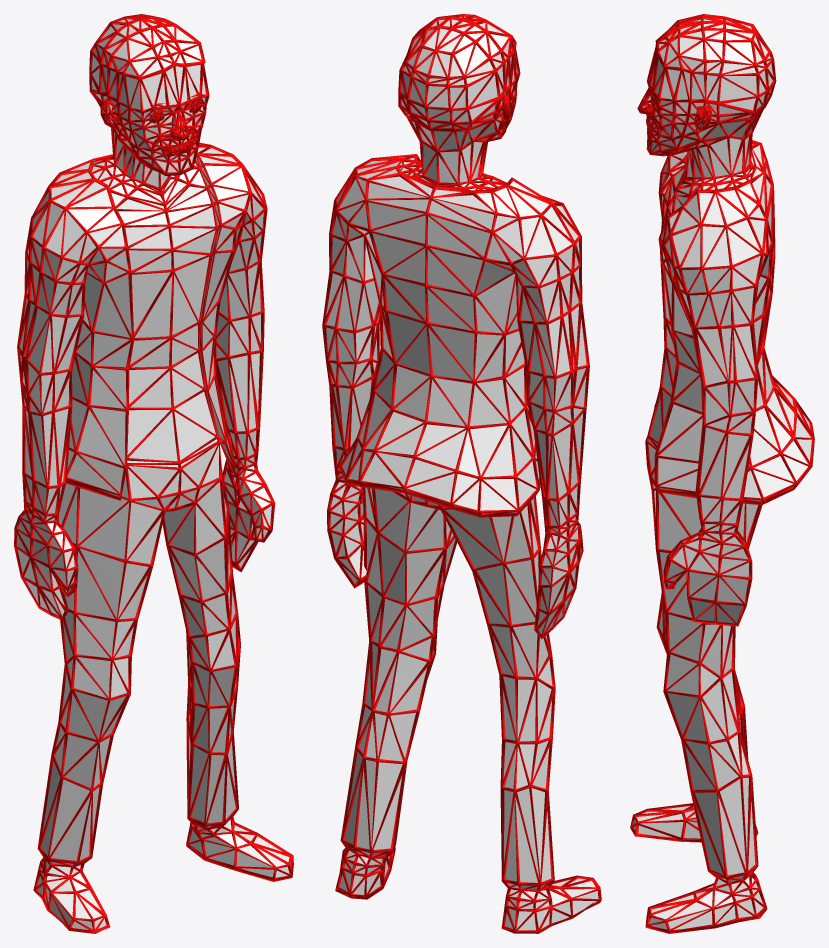
File: elegantIdle_000021.obj
3 views of the same model, side by side, from view 1: azimuth 30°, elevation 25°; view 2: azimuth 150°, elevation 25°; view 3: azimuth 270°, elevation 25° (orthographic). The views are drawn at different scales.
Visible parts, largest first — view 1: BaseHuman_Cylinder.002; view 2: BaseHuman_Cylinder.002; view 3: BaseHuman_Cylinder.002.
Part boxes in pixels (left/top/right/bottom): BaseHuman_Cylinder.002: left=14, top=14, right=293, bottom=933; BaseHuman_Cylinder.002: left=322, top=14, right=601, bottom=933; BaseHuman_Cylinder.002: left=630, top=14, right=814, bottom=933.
Bounding box in the file's own units: 1.44 × 4.84 × 0.9492.
